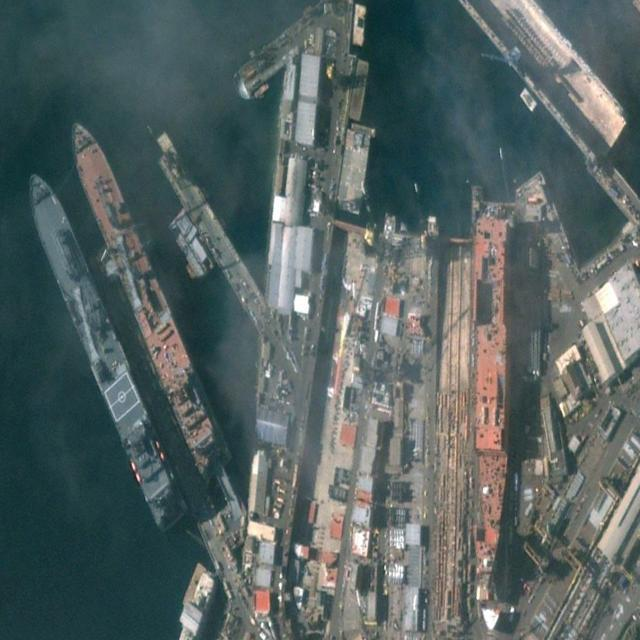Cargo: (18, 160, 188, 537), (472, 204, 509, 590)
Oil Tanker: (60, 108, 230, 478)
